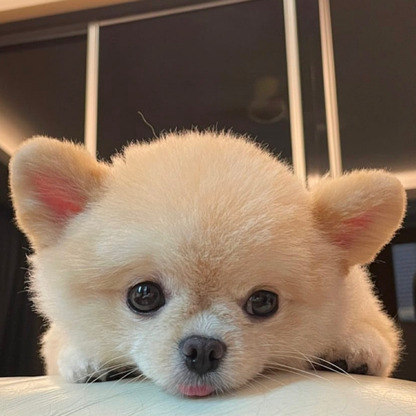Pomeranian: (15, 123, 403, 392)
